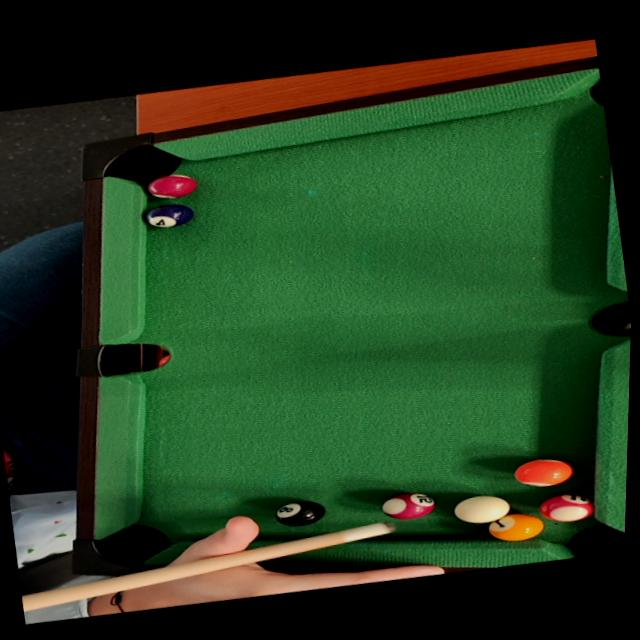cue ball: (444, 487, 519, 530)
other: (505, 449, 585, 496), (532, 485, 612, 532), (476, 503, 553, 551), (375, 485, 446, 530), (267, 491, 335, 534), (131, 197, 196, 238), (140, 168, 200, 204)
